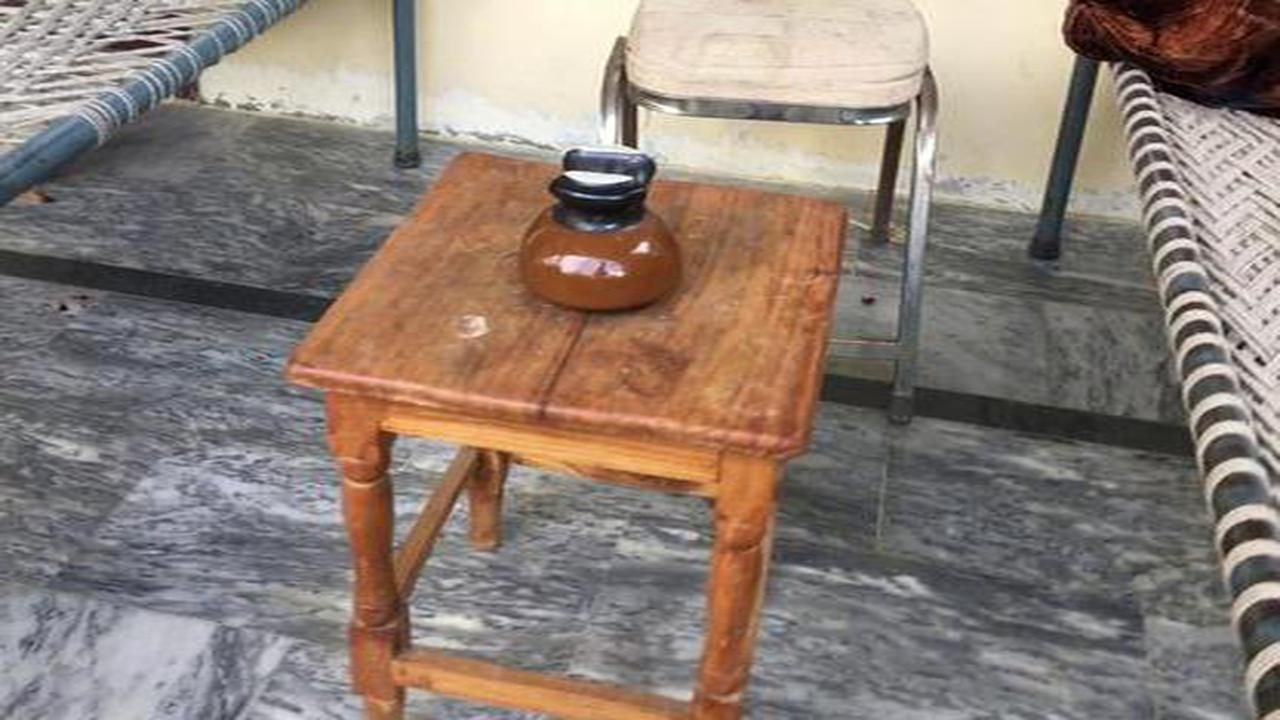insulator_pin: (496, 132, 696, 317)
